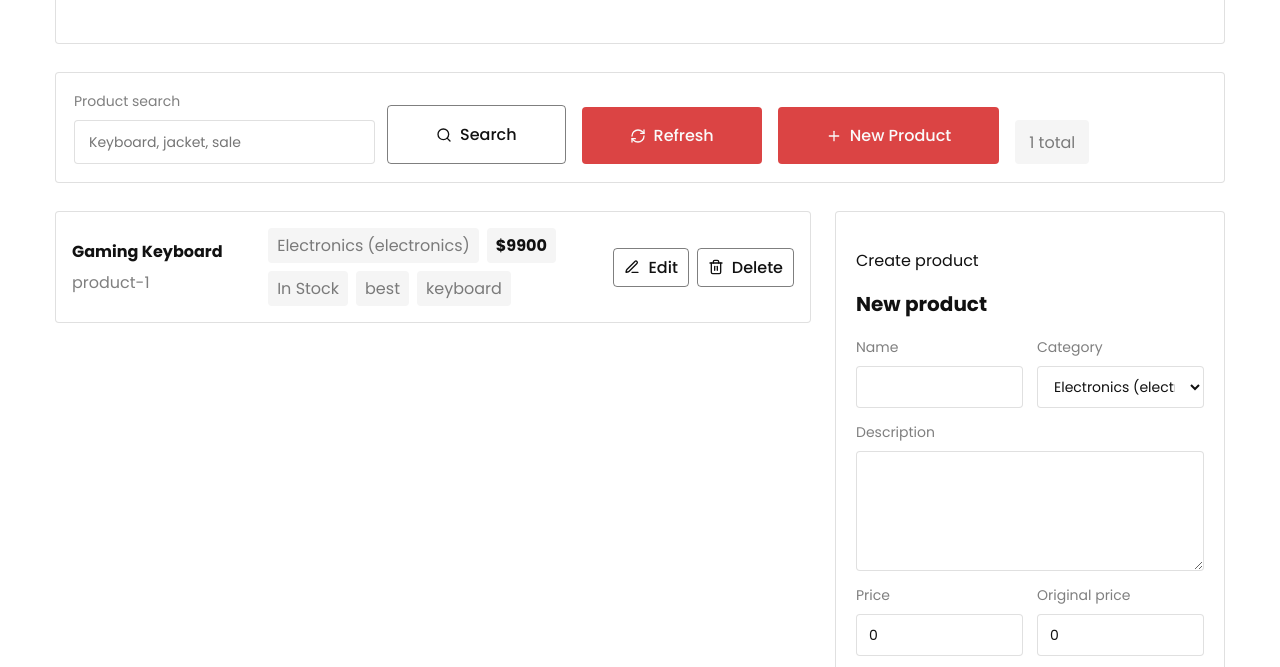
it: AdminProductsPage › removes variant rows before saving
The width and height of the screenshot is (1280, 667).
(page scrolled)
Click the button "Edit".
click(651, 267)  # box [613,248,689,286]
(page scrolled)
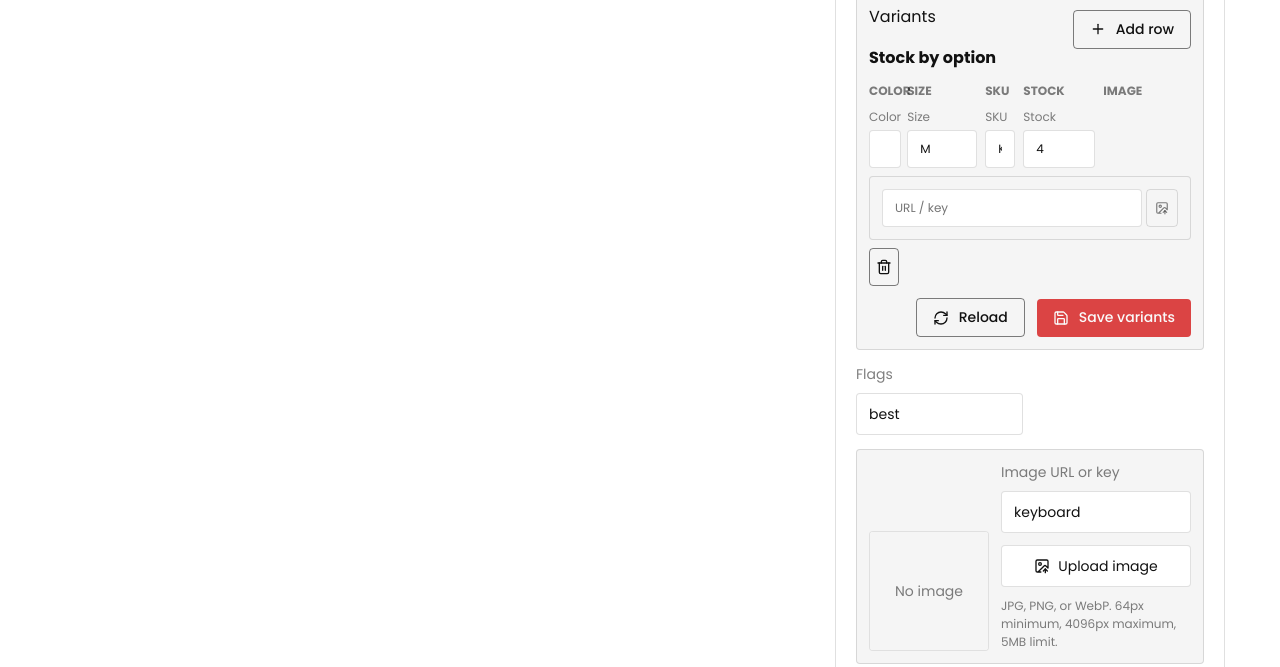
Check: the field showing "KEY-BLK-M" is shown, box [985,130,1015,168]
Click the button named "Delete variant 1".
click(884, 267)  # box [869,248,899,286]
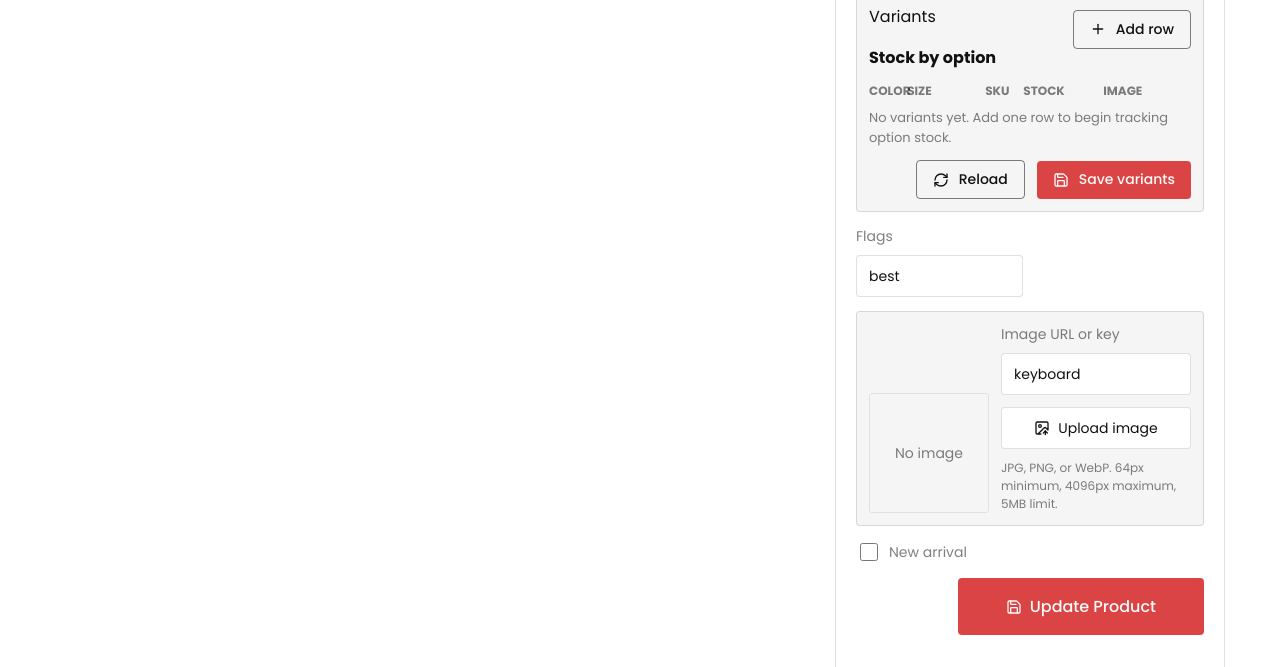
Click the button "Save variants".
click(1114, 180)  # box [1037,160,1191,198]
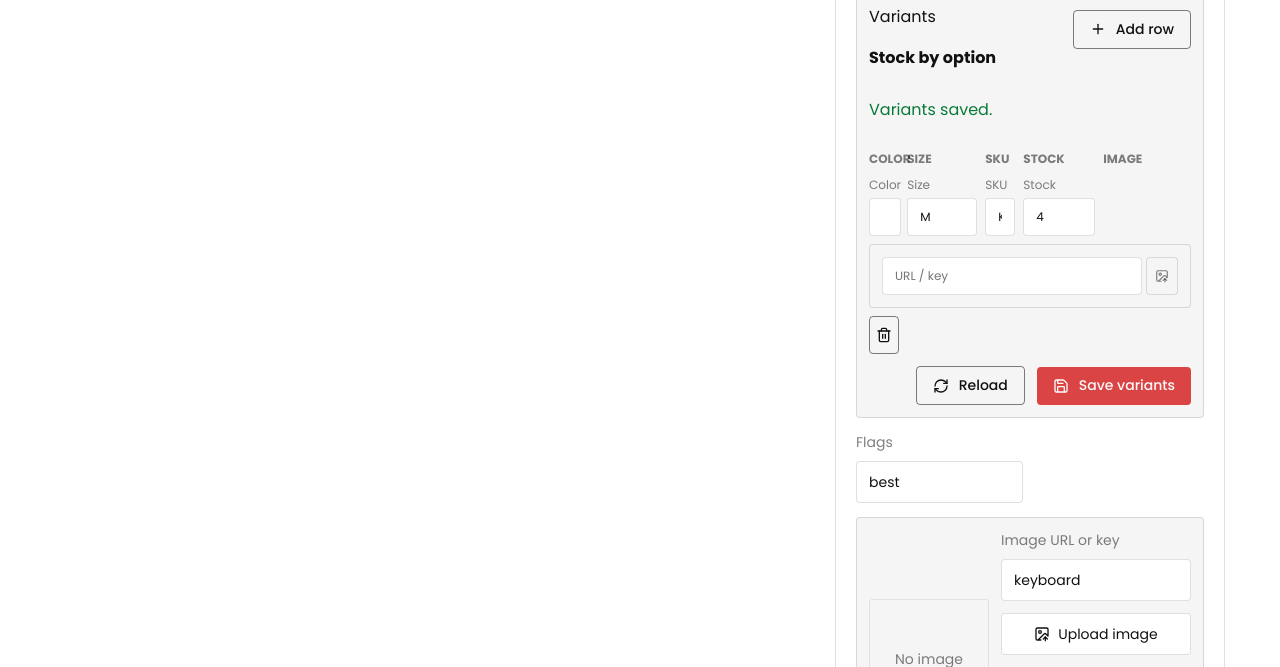
Check: the text "Variants saved." is shown, box [869,98,992,121]
